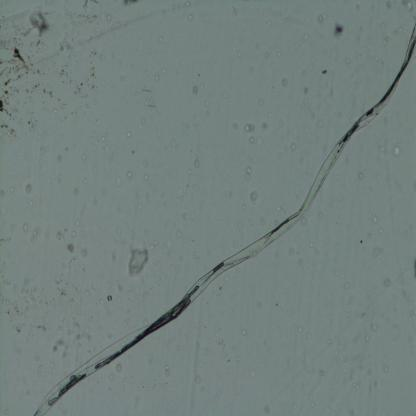Background material: (0, 30, 35, 135), (57, 54, 93, 99), (2, 275, 38, 318), (124, 238, 151, 278), (48, 332, 70, 356), (75, 3, 100, 24), (30, 9, 50, 33), (367, 201, 383, 226), (94, 132, 111, 155), (370, 240, 381, 263), (245, 123, 257, 144), (319, 7, 330, 28), (190, 155, 203, 171), (162, 360, 172, 380), (380, 276, 392, 290), (400, 1, 413, 13), (260, 119, 271, 133), (334, 25, 346, 37), (34, 320, 47, 331), (392, 144, 402, 158), (121, 0, 138, 8), (322, 336, 334, 347), (319, 64, 330, 75), (366, 324, 378, 334), (78, 175, 88, 187), (313, 118, 325, 128), (348, 293, 358, 305), (251, 189, 260, 202), (245, 165, 253, 179), (192, 84, 200, 96), (281, 76, 289, 88), (67, 244, 76, 254), (186, 12, 194, 23), (154, 69, 160, 83), (238, 328, 248, 336), (361, 310, 367, 323), (24, 184, 31, 195), (359, 170, 366, 180), (81, 152, 88, 162), (302, 90, 310, 97), (107, 293, 113, 302), (128, 170, 134, 178), (344, 284, 351, 290)
Cotton: (33, 24, 416, 415)
